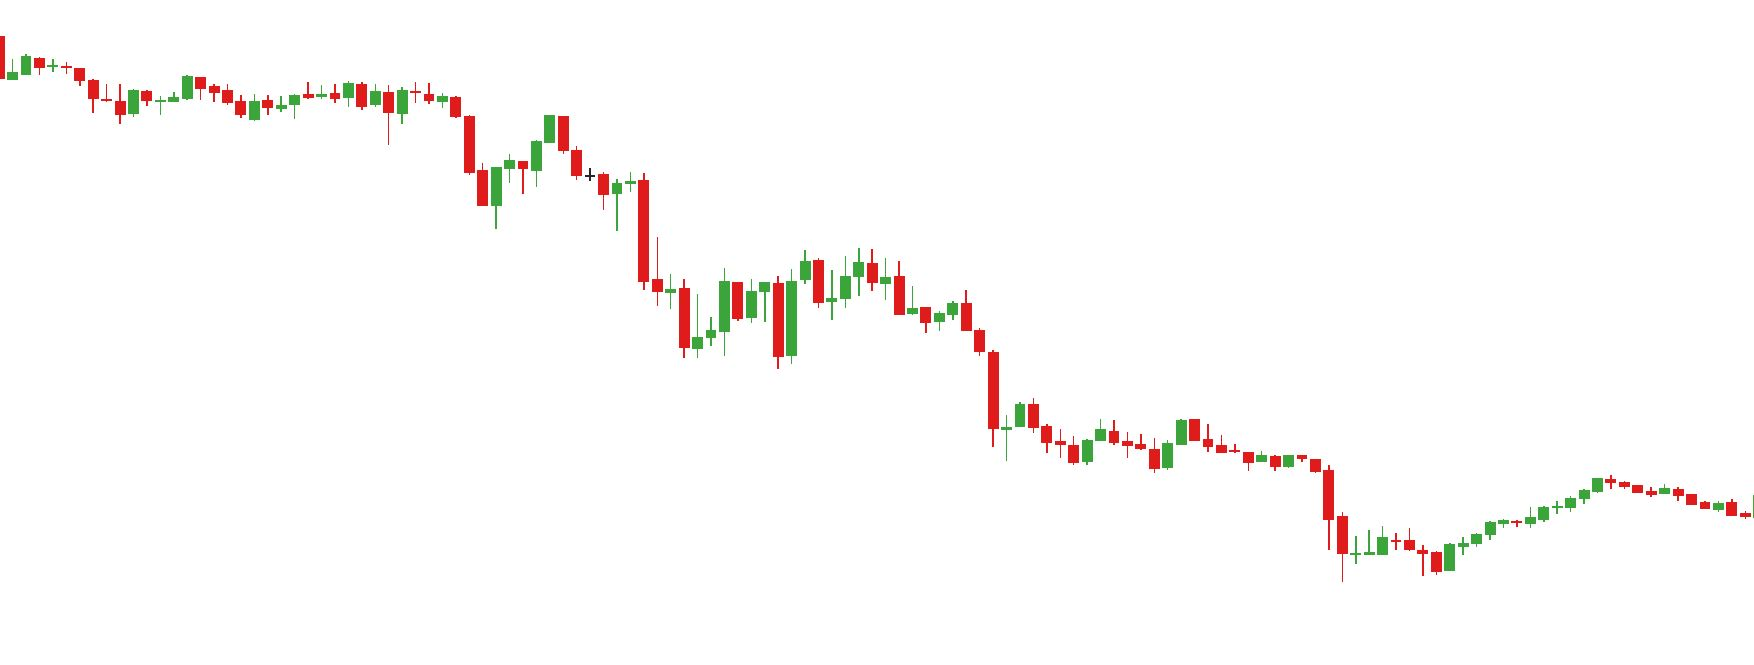sell: (718, 251, 828, 335)
